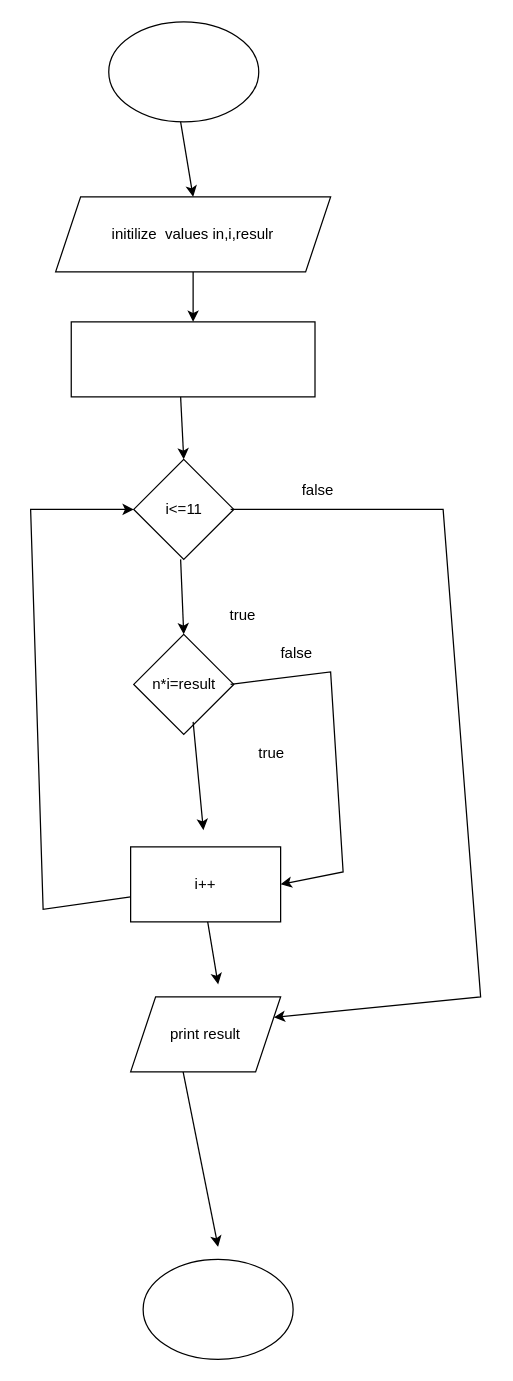
Image size: 513x1381. Some labels were removed from this diagram. The box of each missing label's shape, as (x1, y1, x2, y2) in pixels:
assign the values n=2,i=1: (70, 321, 315, 397)
start: (108, 21, 259, 122)
stop: (142, 1258, 293, 1359)
